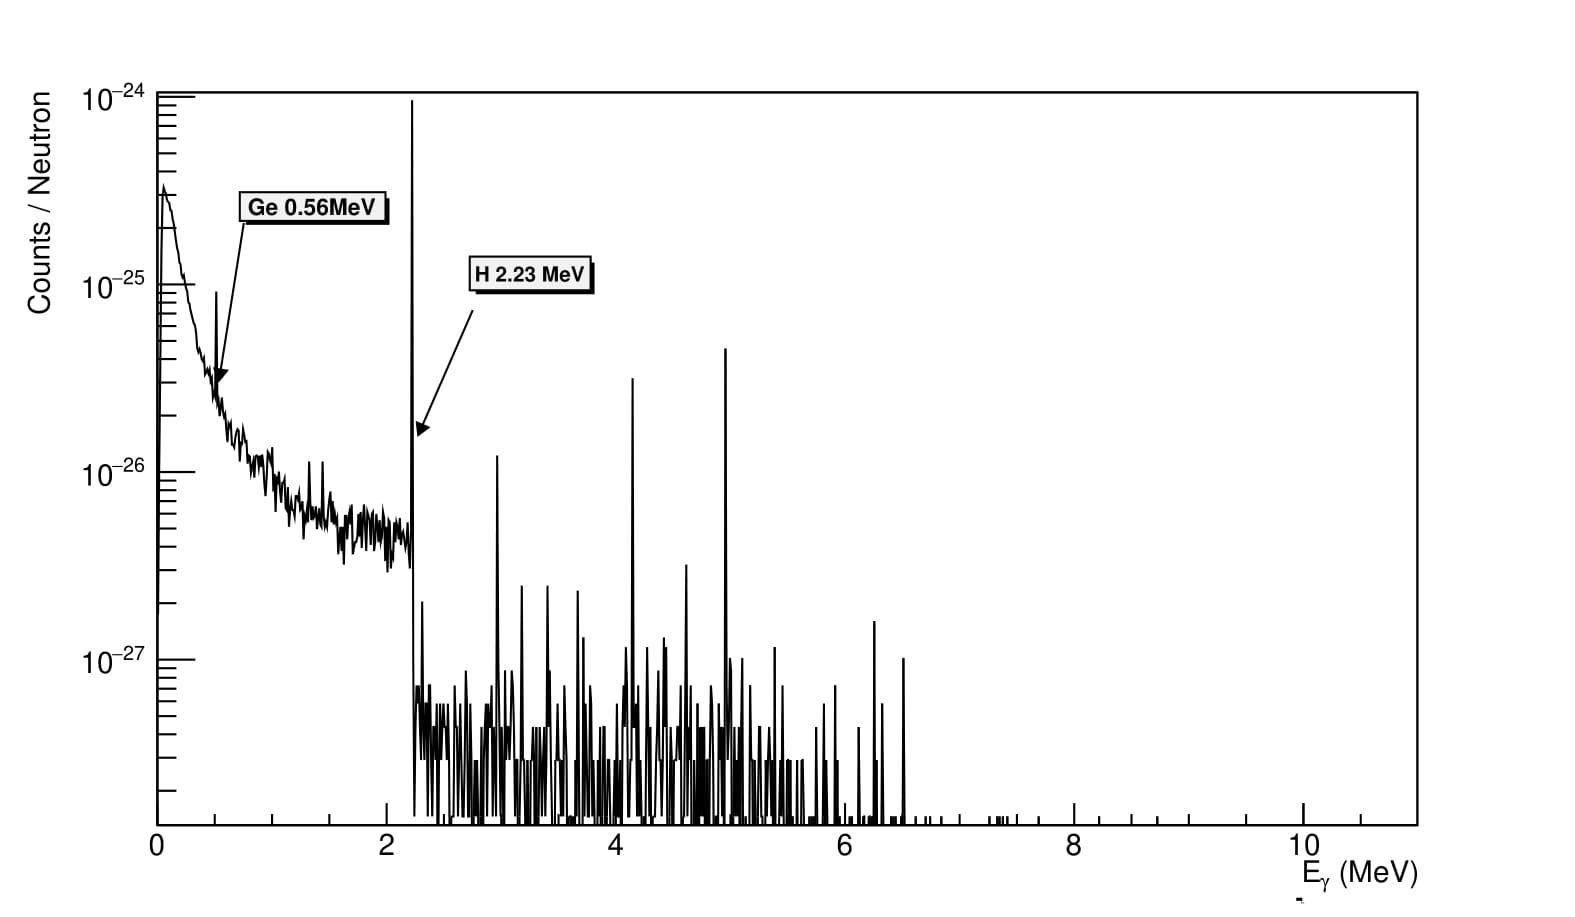gauss: (395, 102, 446, 839), (709, 335, 747, 824), (625, 373, 648, 855), (485, 458, 511, 838), (196, 288, 229, 421)
